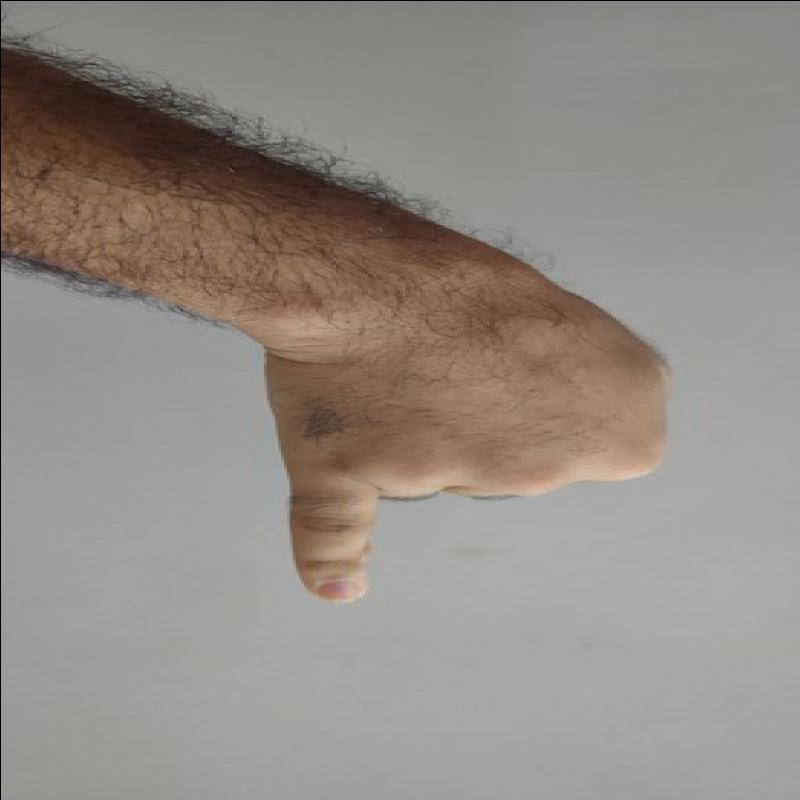Kartharee Mukham: (259, 280, 687, 623)
